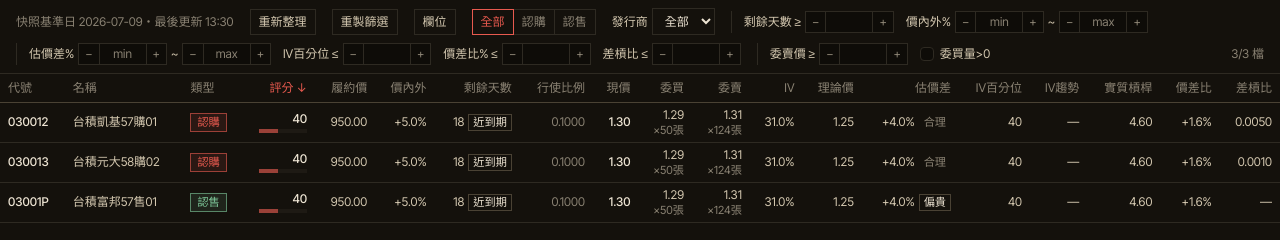
Scenario: WarrantSelector 發行商篩選(mod warrant-selector-table SC-2) › 下拉選項 = 全部 + 該標的實際發行商;選定後過濾;重製回全部
Check: the text "台積凱基57購01" is shown, box [65,102,182,142]
Select "凱基" in the dropdown named "發行商篩選": point(683, 22) [652,8,715,35]
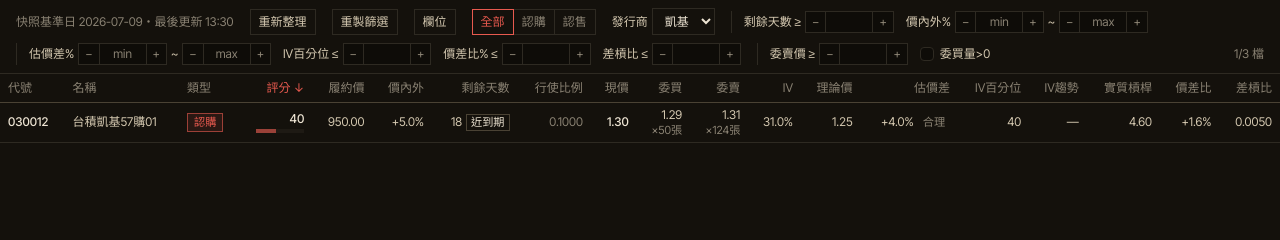
Check: the number of rows with test id "warrant-row" is 1, box [0,102,1279,142]
Click the button with test id "filter-reset-btn": point(365, 22) [332,8,398,34]
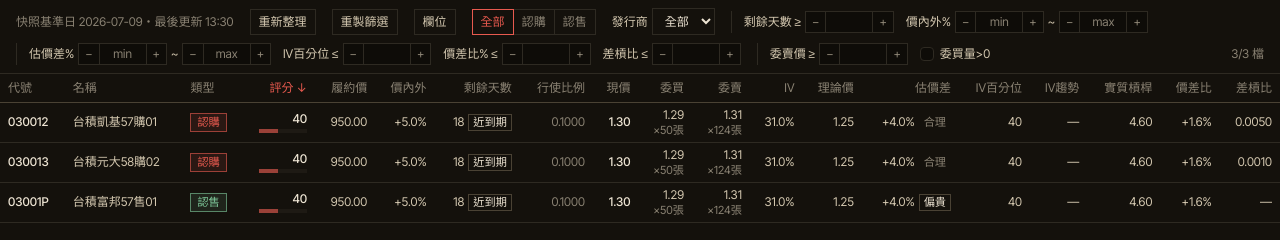
Check: the number of rows with test id "warrant-row" is 3, box [0,102,1279,142]; [0,142,1279,182]; [0,182,1279,222]
Check: the dropdown named "發行商篩選" shows "全部", box [652,8,715,35]
